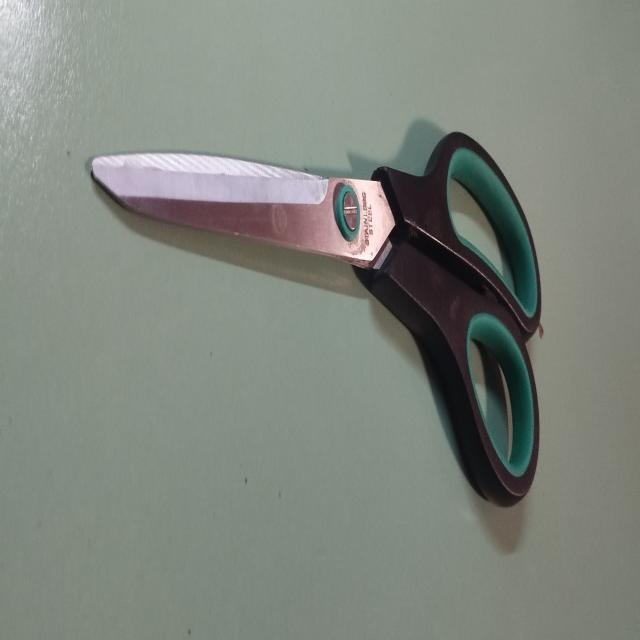tesoura: (82, 120, 546, 514)
